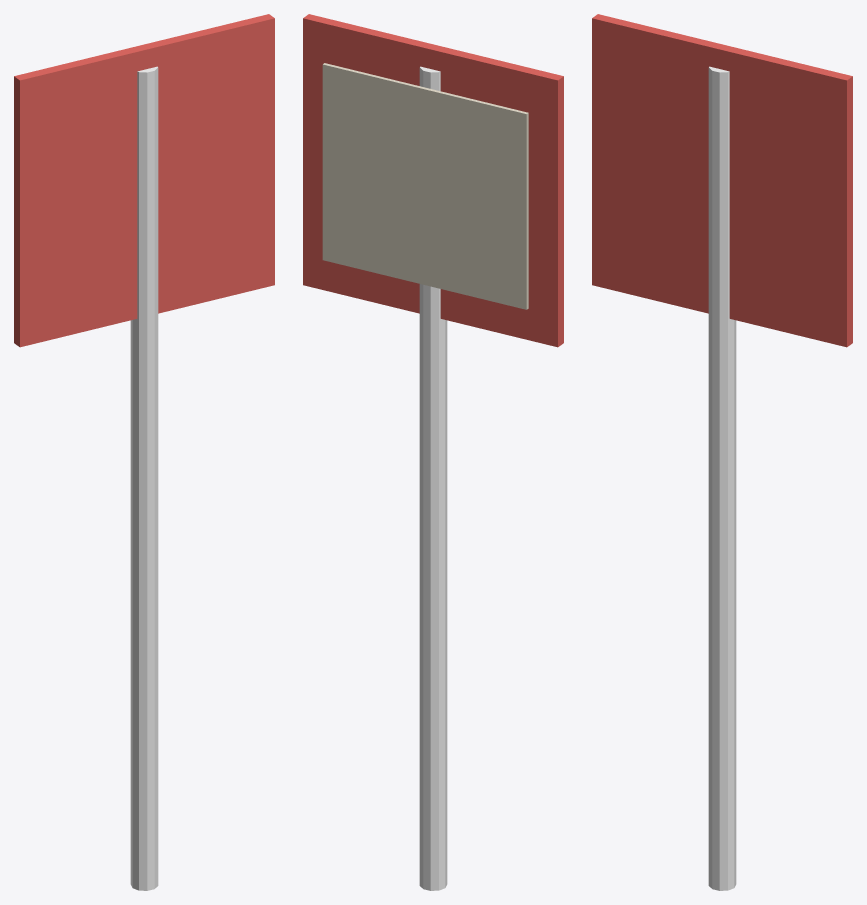
Rendered from Sgnstop_0000026.glb.
3 renders of one model, left to right at view 1: azimuth 30°, elevation 25°; view 2: azimuth 150°, elevation 25°; view 3: azimuth 330°, elevation 25°, orthographic.
Parts seen in each view (by area): view 1: Sgnstop_0000026; view 2: Sgnstop_0000026; view 3: Sgnstop_0000026.
Boxes of the visible parts, x1=… form: Sgnstop_0000026: x1=14, y1=14, x2=274, y2=890; Sgnstop_0000026: x1=303, y1=14, x2=563, y2=890; Sgnstop_0000026: x1=592, y1=14, x2=852, y2=890.
Size of the model in its own units: 0.75 by 2.36 by 0.0783.
